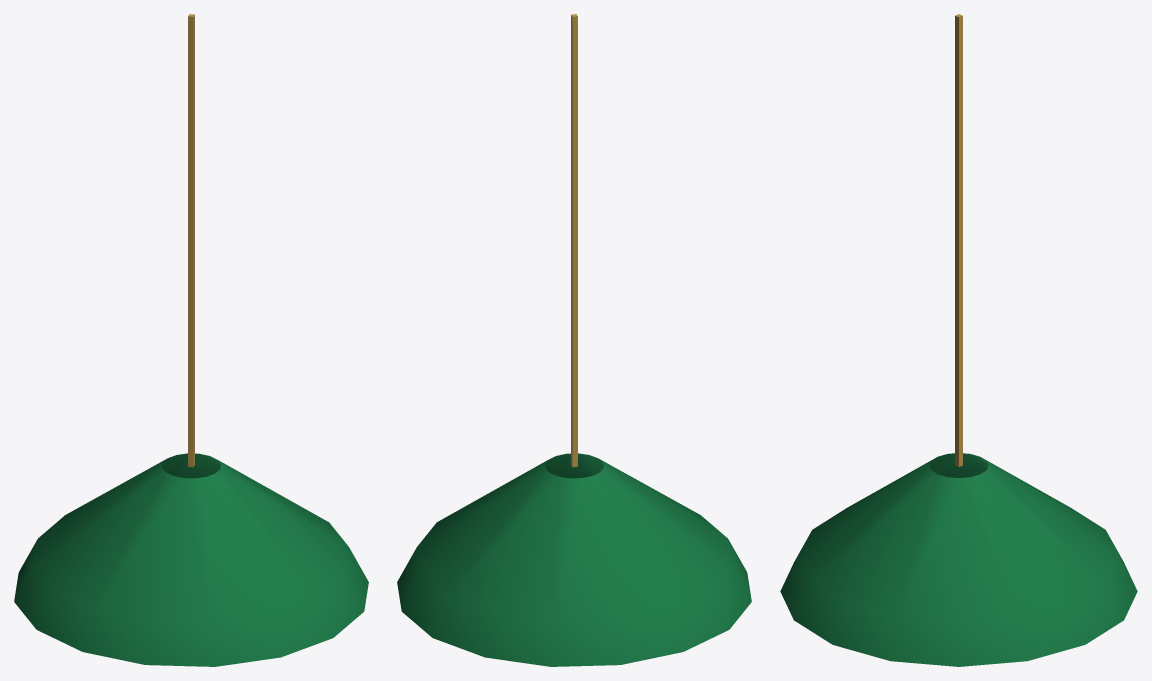
The model's file is HangClub.fbx.
3 renders of one model, left to right at view 1: azimuth 30°, elevation 25°; view 2: azimuth 150°, elevation 25°; view 3: azimuth 270°, elevation 25°, orthographic.
Visible parts, largest first — view 1: HangClub; view 2: HangClub; view 3: HangClub.
Part boxes in pixels (x1,y1,x2,y2): HangClub: (14,14,368,666); HangClub: (397,14,751,666); HangClub: (780,14,1137,666).
Bounding box in the file's own units: 360 × 670 × 360.
